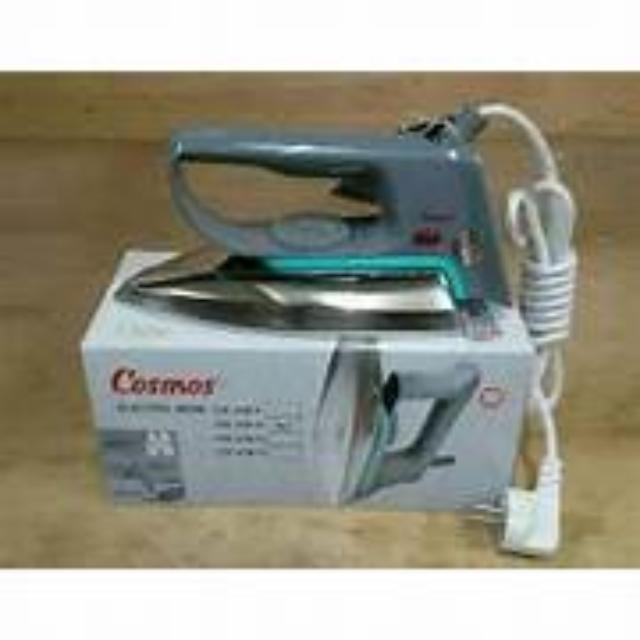Clothes-Iron: (112, 113, 516, 333)
